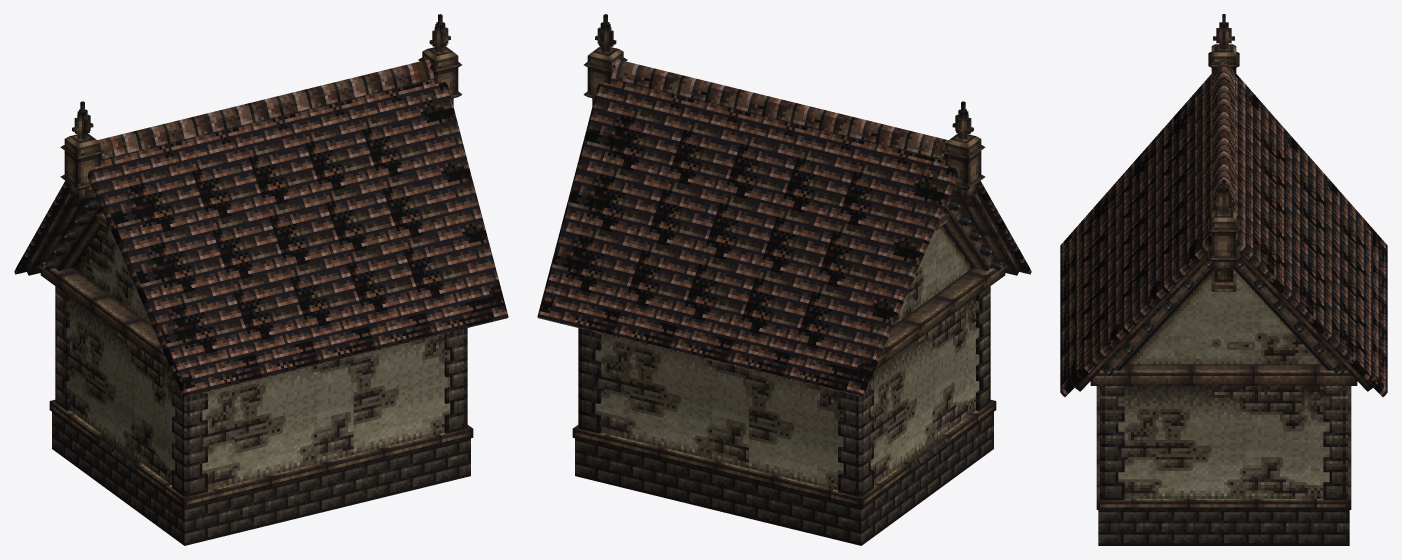
File: EnvBdgMD_City_D_Outdoor_4W5D_B.FBX
The picture shows the model from 3 angles, left to right: view 1: azimuth 30°, elevation 25°; view 2: azimuth 150°, elevation 25°; view 3: azimuth 270°, elevation 25°; orthographic projection. The views are drawn at different scales.
Parts seen in each view (by area): view 1: EnvBdgMD_City_D_Outdoor_4W5D_B; view 2: EnvBdgMD_City_D_Outdoor_4W5D_B; view 3: EnvBdgMD_City_D_Outdoor_4W5D_B.
Part boxes in pixels (x1,y1,x2,y2): EnvBdgMD_City_D_Outdoor_4W5D_B: [14, 14, 508, 545]; EnvBdgMD_City_D_Outdoor_4W5D_B: [537, 14, 1031, 545]; EnvBdgMD_City_D_Outdoor_4W5D_B: [1060, 14, 1387, 545].
Size of the model in its own units: 680 by 680 by 527.
